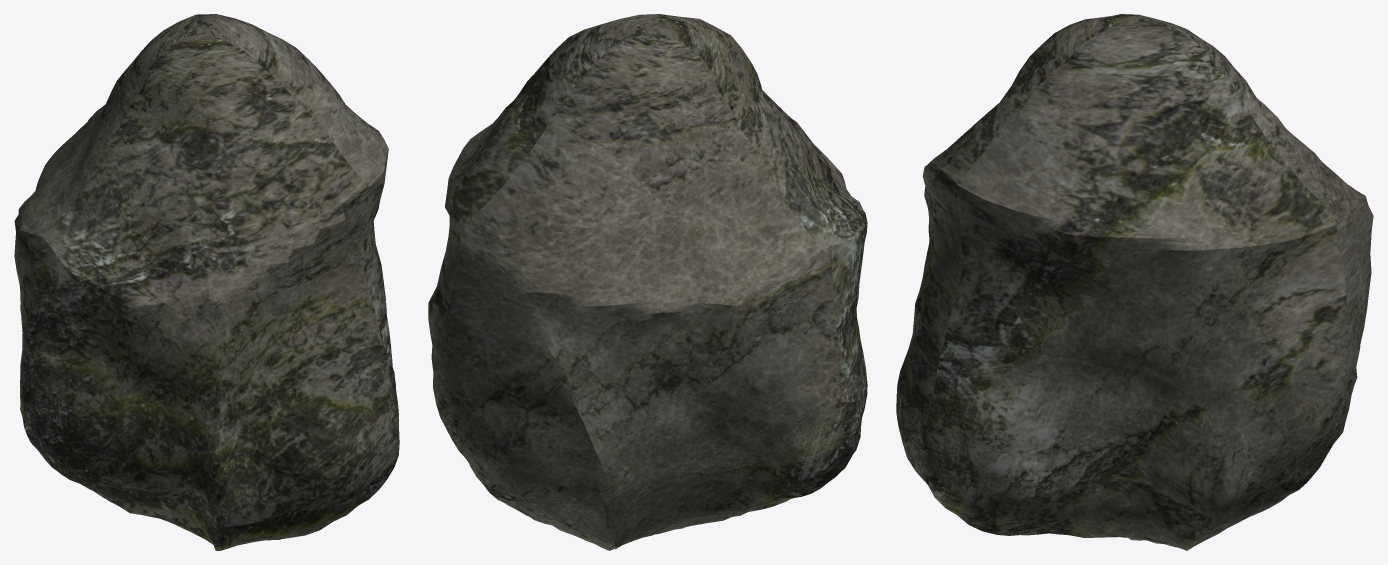
File: Rock2.fbx
The picture shows the model from 3 angles, left to right: view 1: azimuth 30°, elevation 25°; view 2: azimuth 150°, elevation 25°; view 3: azimuth 270°, elevation 25°; orthographic projection. The views are drawn at different scales.
Visible parts, largest first — view 1: rock.005; view 2: rock.005; view 3: rock.005.
Boxes of the visible parts, x1,y1,x2,y2 form: rock.005: [14, 14, 399, 550]; rock.005: [428, 14, 867, 550]; rock.005: [896, 14, 1373, 550].
Size of the model in its own units: 71.65 by 98.04 by 81.96.
